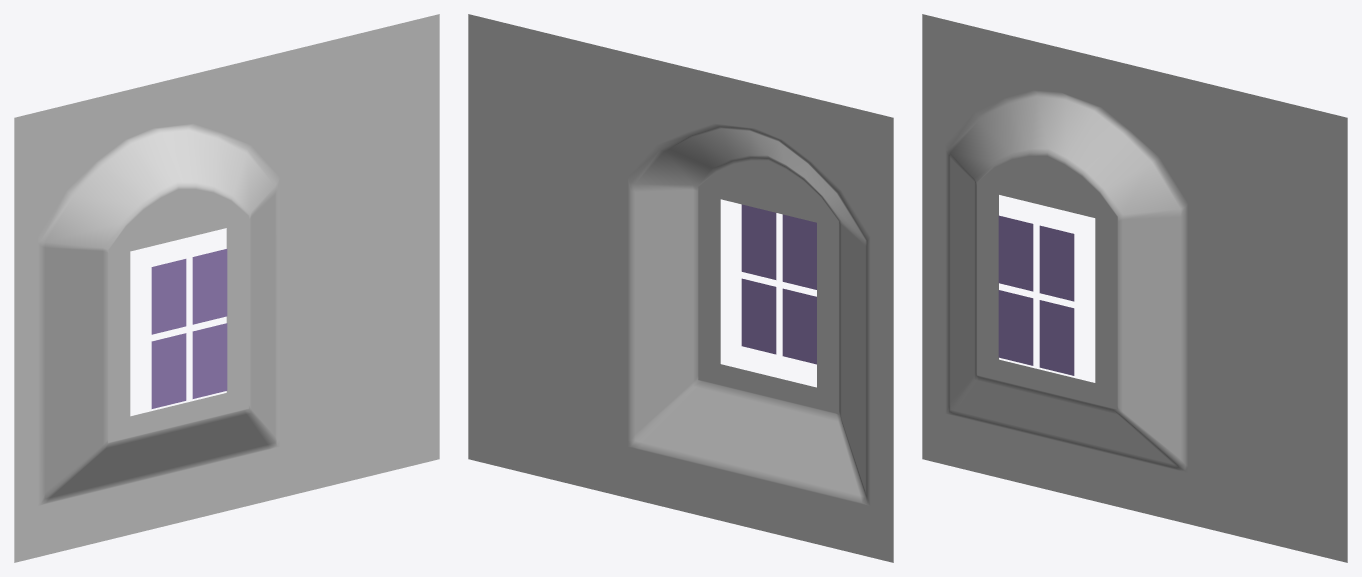
File: window_d_inside_variant_c.fbx
The picture shows the model from 3 angles, left to right: view 1: azimuth 30°, elevation 25°; view 2: azimuth 150°, elevation 25°; view 3: azimuth 330°, elevation 25°; orthographic projection.
Parts seen in each view (by area): view 1: Plane.066, Plane.062; view 2: Plane.066, Plane.062; view 3: Plane.066, Plane.062.
Boxes of the visible parts, bbox=[...] form: Plane.066: bbox=[14, 14, 439, 562]; Plane.062: bbox=[151, 249, 227, 408]; Plane.066: bbox=[468, 14, 893, 562]; Plane.062: bbox=[741, 204, 816, 364]; Plane.066: bbox=[922, 14, 1347, 562]; Plane.062: bbox=[998, 215, 1074, 375].
Bounding box in the file's own units: 5 × 5 × 0.6203.
